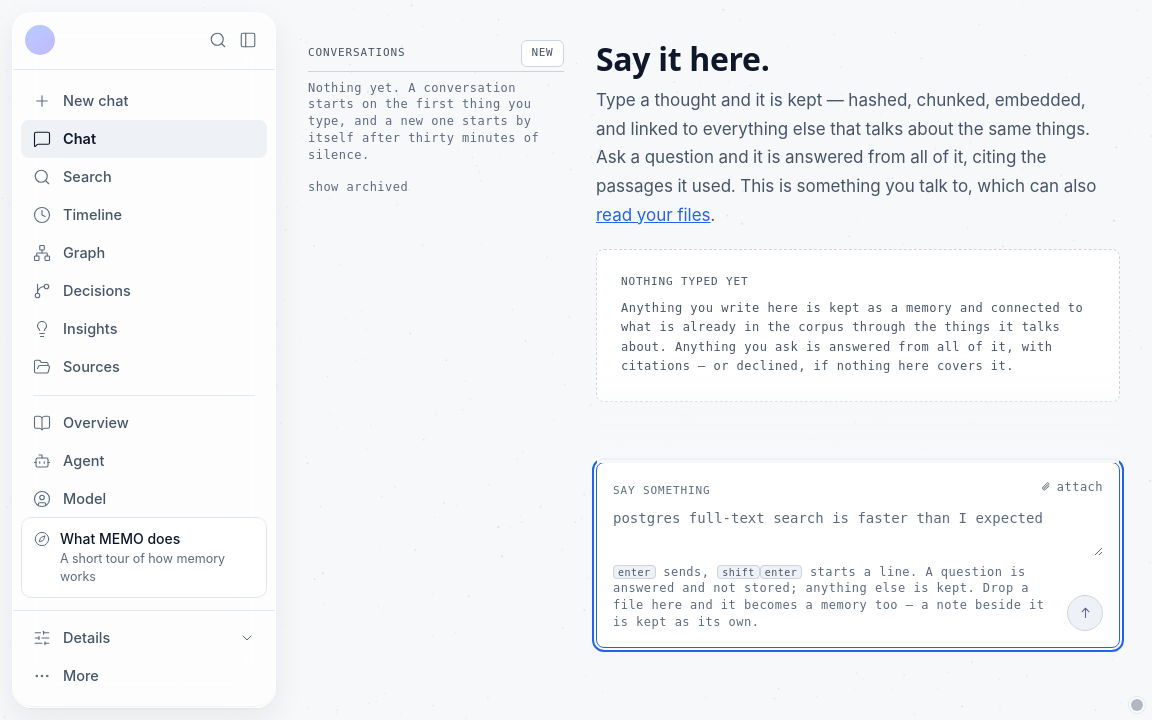
Scenario: navigation › navigating to Timeline renders that route
The image size is (1152, 720).
Step 1. Click the link "Timeline" → (78, 215), box [33, 206, 122, 224]
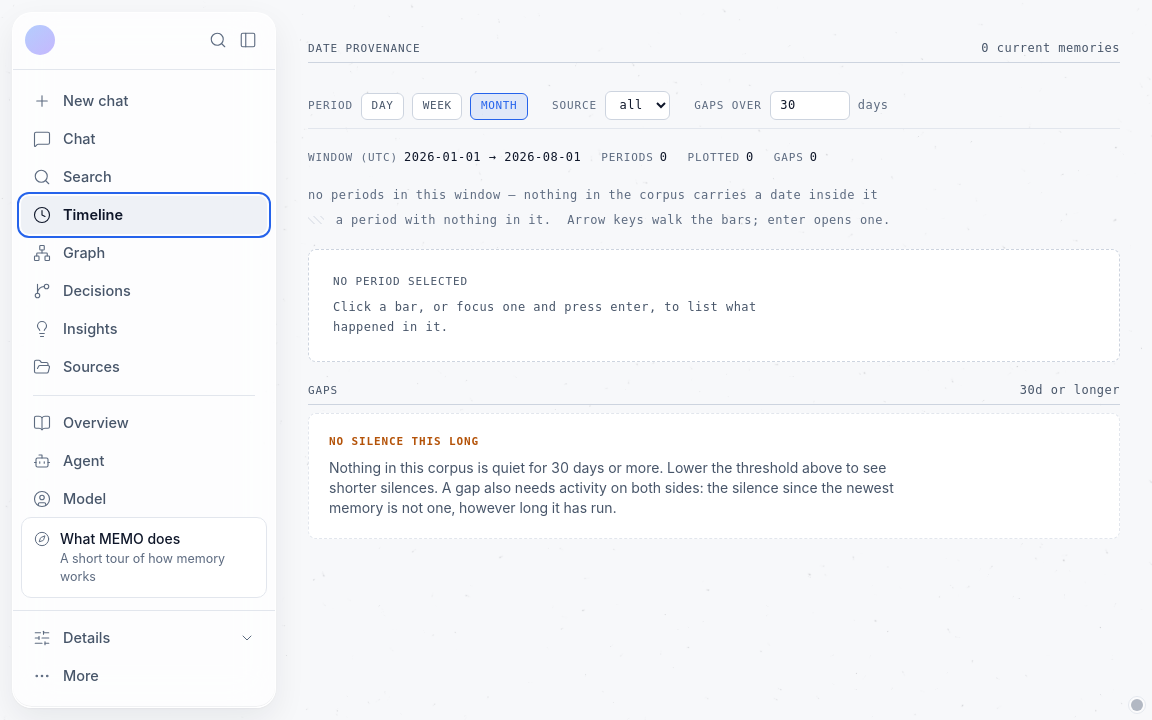
Expected: the heading "date provenance" is shown, [308, 41, 420, 58]
